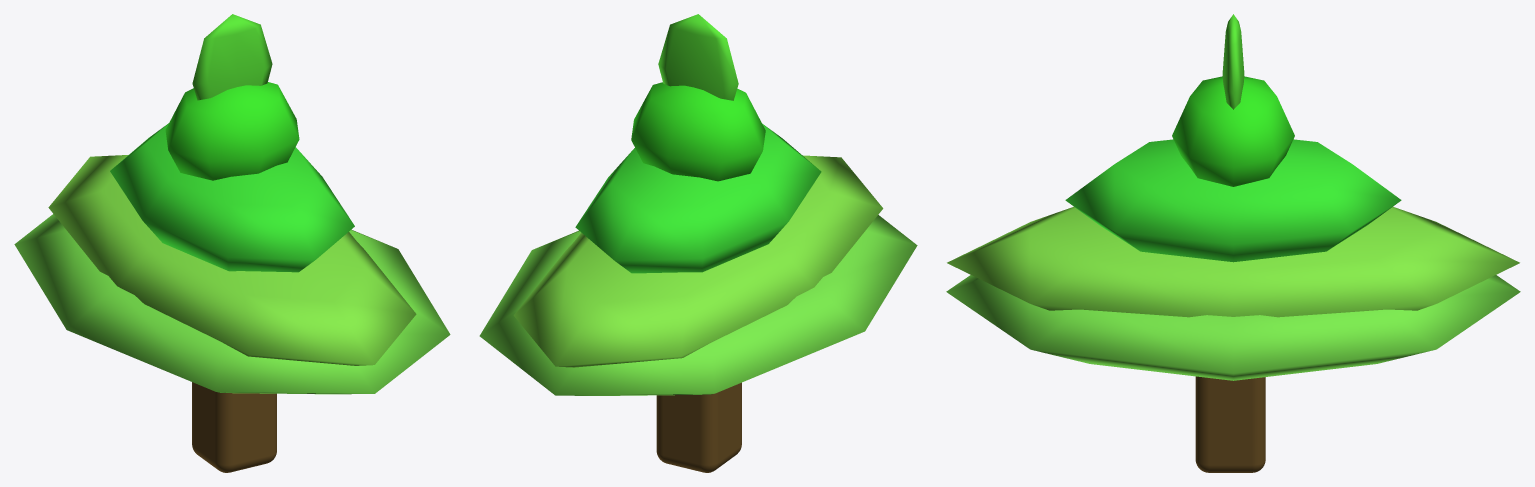
The model's file is tree 1.glb.
The picture shows the model from 3 angles, left to right: view 1: azimuth 30°, elevation 25°; view 2: azimuth 150°, elevation 25°; view 3: azimuth 270°, elevation 25°; orthographic projection.
Parts seen in each view (by area): view 1: Sphere.001, Sphere.004, Sphere.002, Sphere.003, Cube.003, Sphere.005; view 2: Sphere.001, Sphere.004, Sphere.002, Sphere.003, Cube.003, Sphere.005; view 3: Sphere.001, Sphere.004, Sphere.002, Sphere.003, Cube.003, Sphere.005.
Part boxes in pixels (<box>): Sphere.001: <box>48,155,416,365</box>; Sphere.004: <box>14,214,450,394</box>; Sphere.002: <box>110,123,354,272</box>; Sphere.003: <box>165,82,299,180</box>; Cube.003: <box>192,382,276,472</box>; Sphere.005: <box>192,14,272,100</box>; Sphere.001: <box>513,155,883,367</box>; Sphere.004: <box>479,215,917,395</box>; Sphere.002: <box>575,123,821,273</box>; Sphere.003: <box>631,82,765,181</box>; Cube.003: <box>656,382,741,472</box>; Sphere.005: <box>658,14,738,100</box>; Sphere.001: <box>947,207,1519,317</box>; Sphere.004: <box>946,275,1520,380</box>; Sphere.002: <box>1065,139,1401,262</box>; Sphere.003: <box>1172,76,1294,186</box>; Cube.003: <box>1195,376,1265,472</box>; Sphere.005: <box>1222,14,1244,109</box>.
Bounding box in the file's own units: 2.26 × 2.89 × 3.36.
